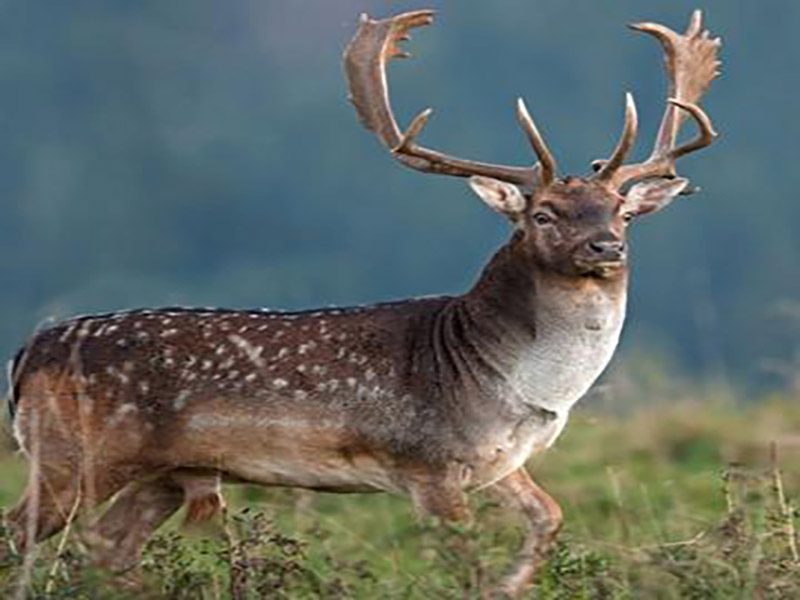cervo: (7, 10, 740, 581)
